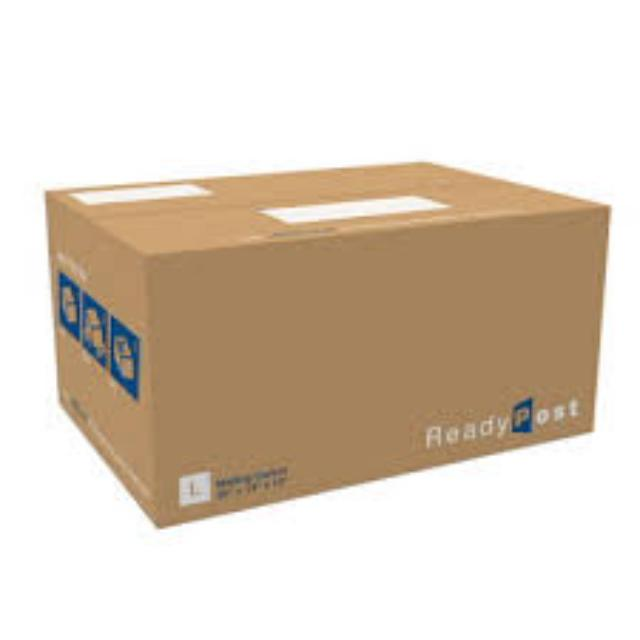cardboard paper: (43, 159, 603, 521)
